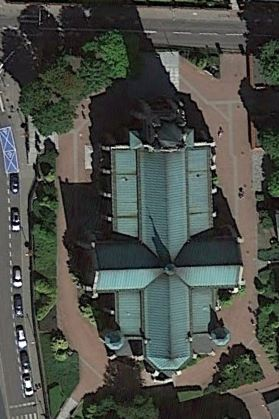church: (67, 92, 248, 383)
